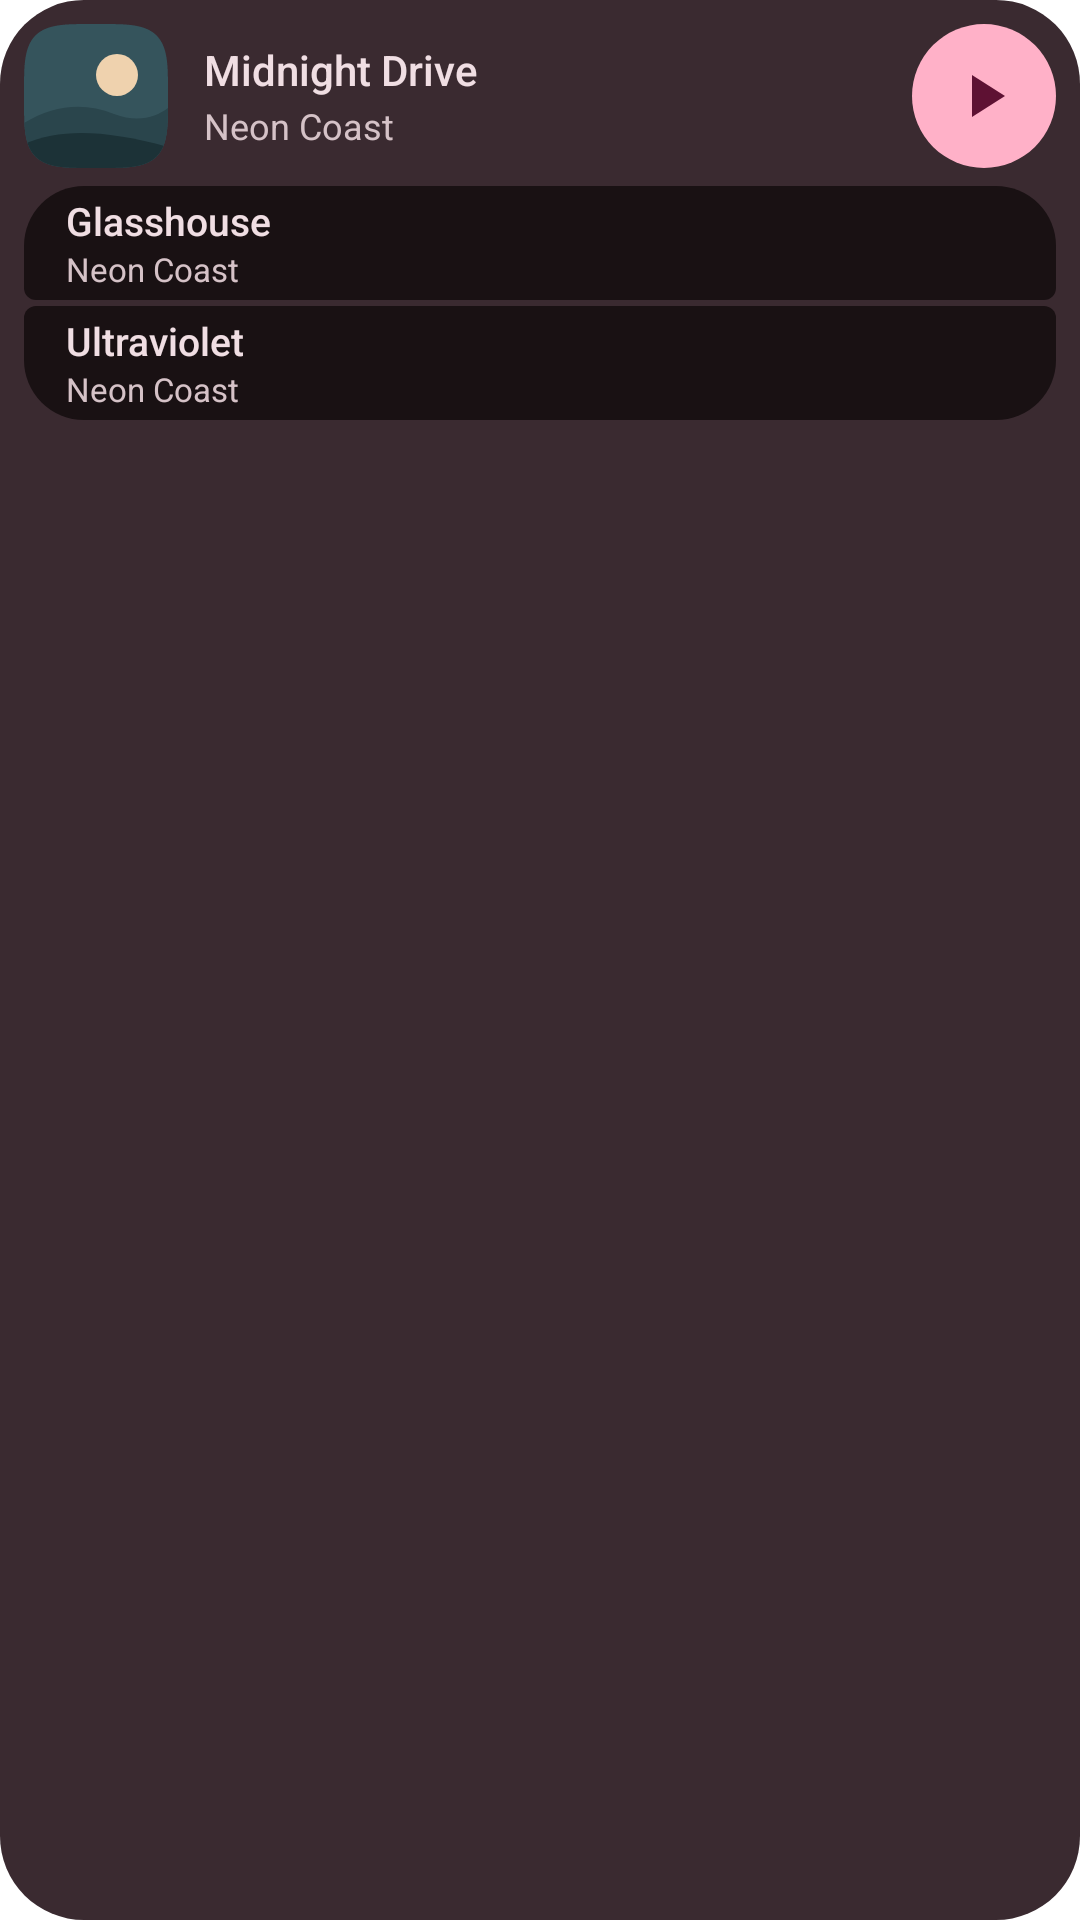

Screen size 1080*1920. Icon name, then its box in pixels as (x1, y1, x2, y2):
Play: (972, 75, 1005, 117)
